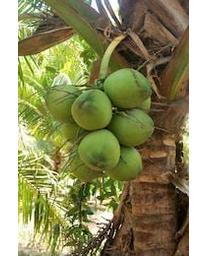coconut: (102, 69, 153, 112), (77, 131, 122, 174), (42, 79, 84, 124), (73, 90, 117, 132), (107, 110, 155, 142), (111, 145, 144, 182)
